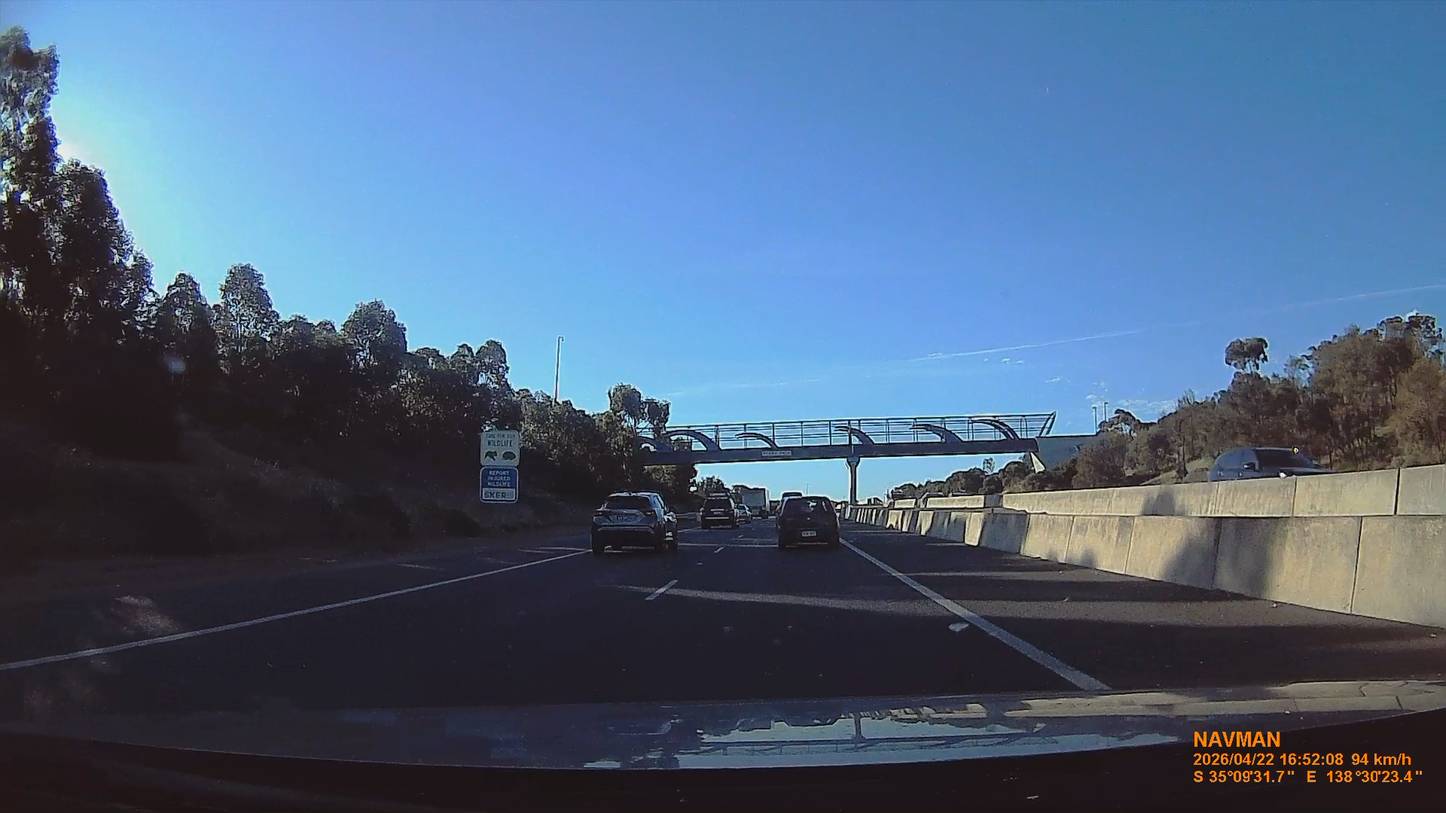road barriers: (859, 465, 1445, 623)
